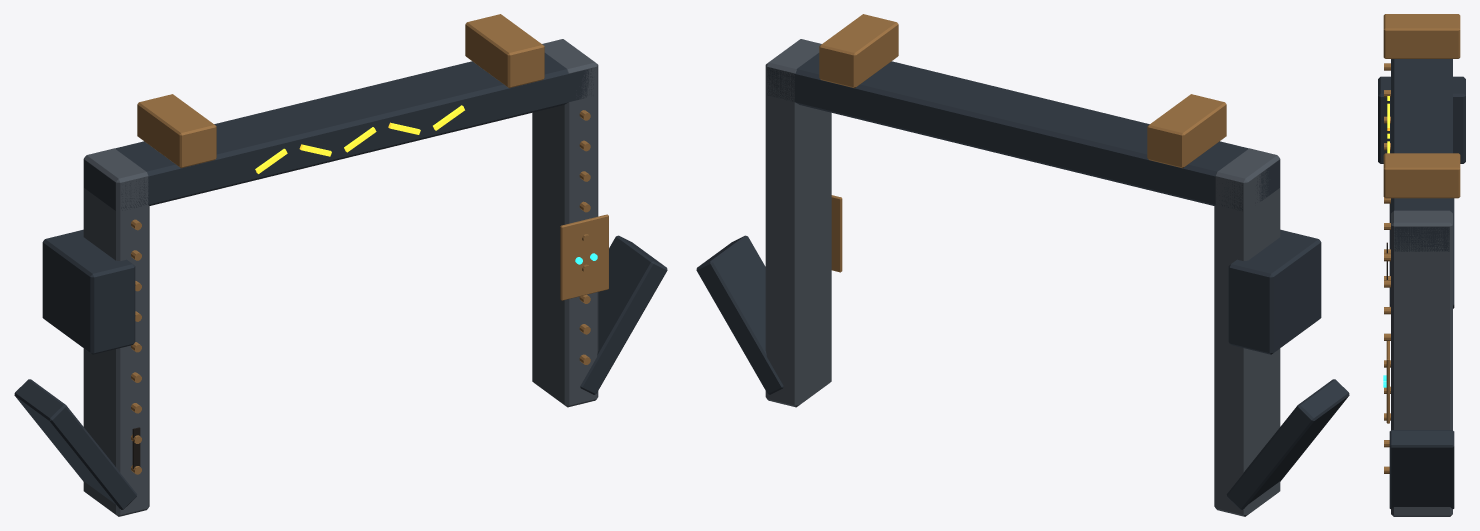
The model's file is runtime.glb.
The picture shows the model from 3 angles, left to right: view 1: azimuth 30°, elevation 25°; view 2: azimuth 150°, elevation 25°; view 3: azimuth 270°, elevation 25°; orthographic projection. The views are drawn at different scales.
Visible parts, largest first — view 1: kinetic-tide-machine-frame-v04_steel_nocol, kinetic-tide-machine-frame-v04_plate_nocol, kinetic-tide-machine-frame-v04_bronze_nocol, kinetic-tide-machine-frame-v04_warningorange_nocol; view 2: kinetic-tide-machine-frame-v04_steel_nocol, kinetic-tide-machine-frame-v04_plate_nocol, kinetic-tide-machine-frame-v04_bronze_nocol; view 3: kinetic-tide-machine-frame-v04_steel_nocol, kinetic-tide-machine-frame-v04_plate_nocol, kinetic-tide-machine-frame-v04_bronze_nocol, kinetic-tide-machine-frame-v04_warningorange_nocol.
Part boxes in pixels (x1,y1,x2,y2): kinetic-tide-machine-frame-v04_steel_nocol: (14,53,667,509); kinetic-tide-machine-frame-v04_plate_nocol: (83,39,598,516); kinetic-tide-machine-frame-v04_bronze_nocol: (131,14,608,474); kinetic-tide-machine-frame-v04_warningorange_nocol: (255,105,464,173); kinetic-tide-machine-frame-v04_steel_nocol: (696,53,1349,509); kinetic-tide-machine-frame-v04_plate_nocol: (765,39,1280,516); kinetic-tide-machine-frame-v04_bronze_nocol: (819,14,1226,272); kinetic-tide-machine-frame-v04_steel_nocol: (1378,59,1465,508); kinetic-tide-machine-frame-v04_plate_nocol: (1391,210,1452,516); kinetic-tide-machine-frame-v04_bronze_nocol: (1383,14,1460,473); kinetic-tide-machine-frame-v04_warningorange_nocol: (1387,96,1389,153).
Bounding box in the file's own units: 15.06 × 8.7 × 2.13.
